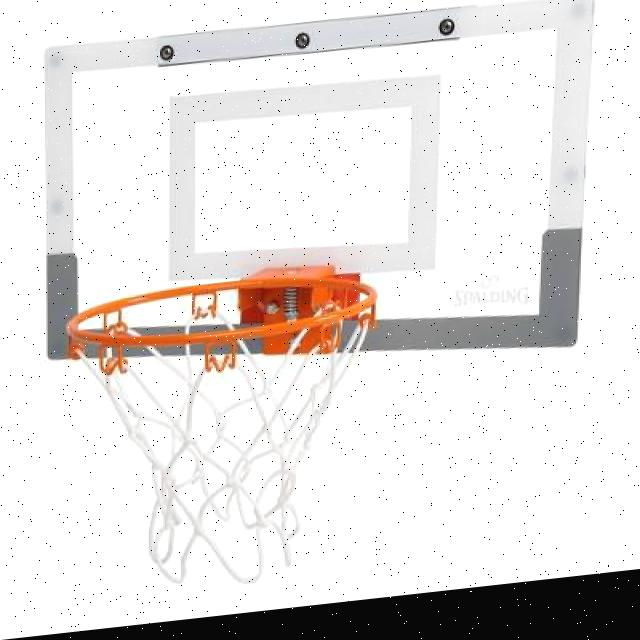hoop: (67, 264, 378, 603)
